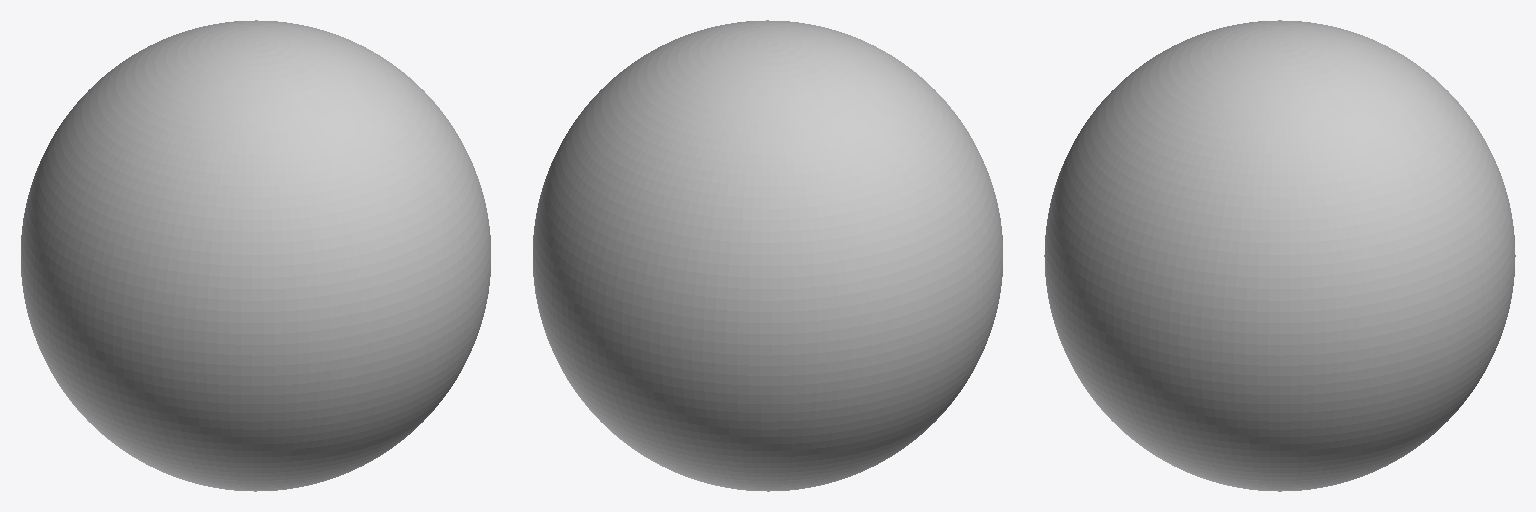
The model's file is Unit Sphere (High Poly).obj.
The picture shows the model from 3 angles: view 1: azimuth 30°, elevation 25°; view 2: azimuth 150°, elevation 25°; view 3: azimuth 270°, elevation 25°; orthographic projection.
Parts seen in each view (by area): view 1: Sphere; view 2: Sphere; view 3: Sphere.
Part boxes in pixels (x1,y1,x2,y2): Sphere: (21,20,490,491); Sphere: (533,20,1002,491); Sphere: (1044,20,1515,491).
Size of the model in its own units: 2 by 2 by 2.